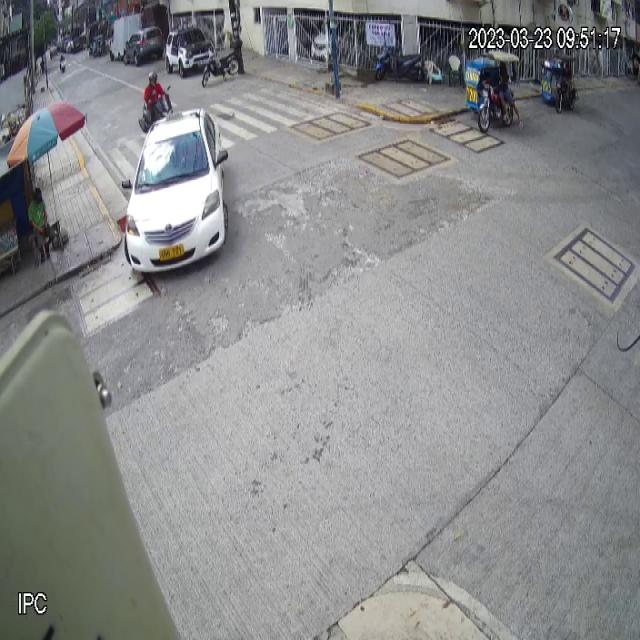Car: (122, 107, 230, 272)
Tricycle: (464, 51, 519, 135), (539, 52, 579, 114)
